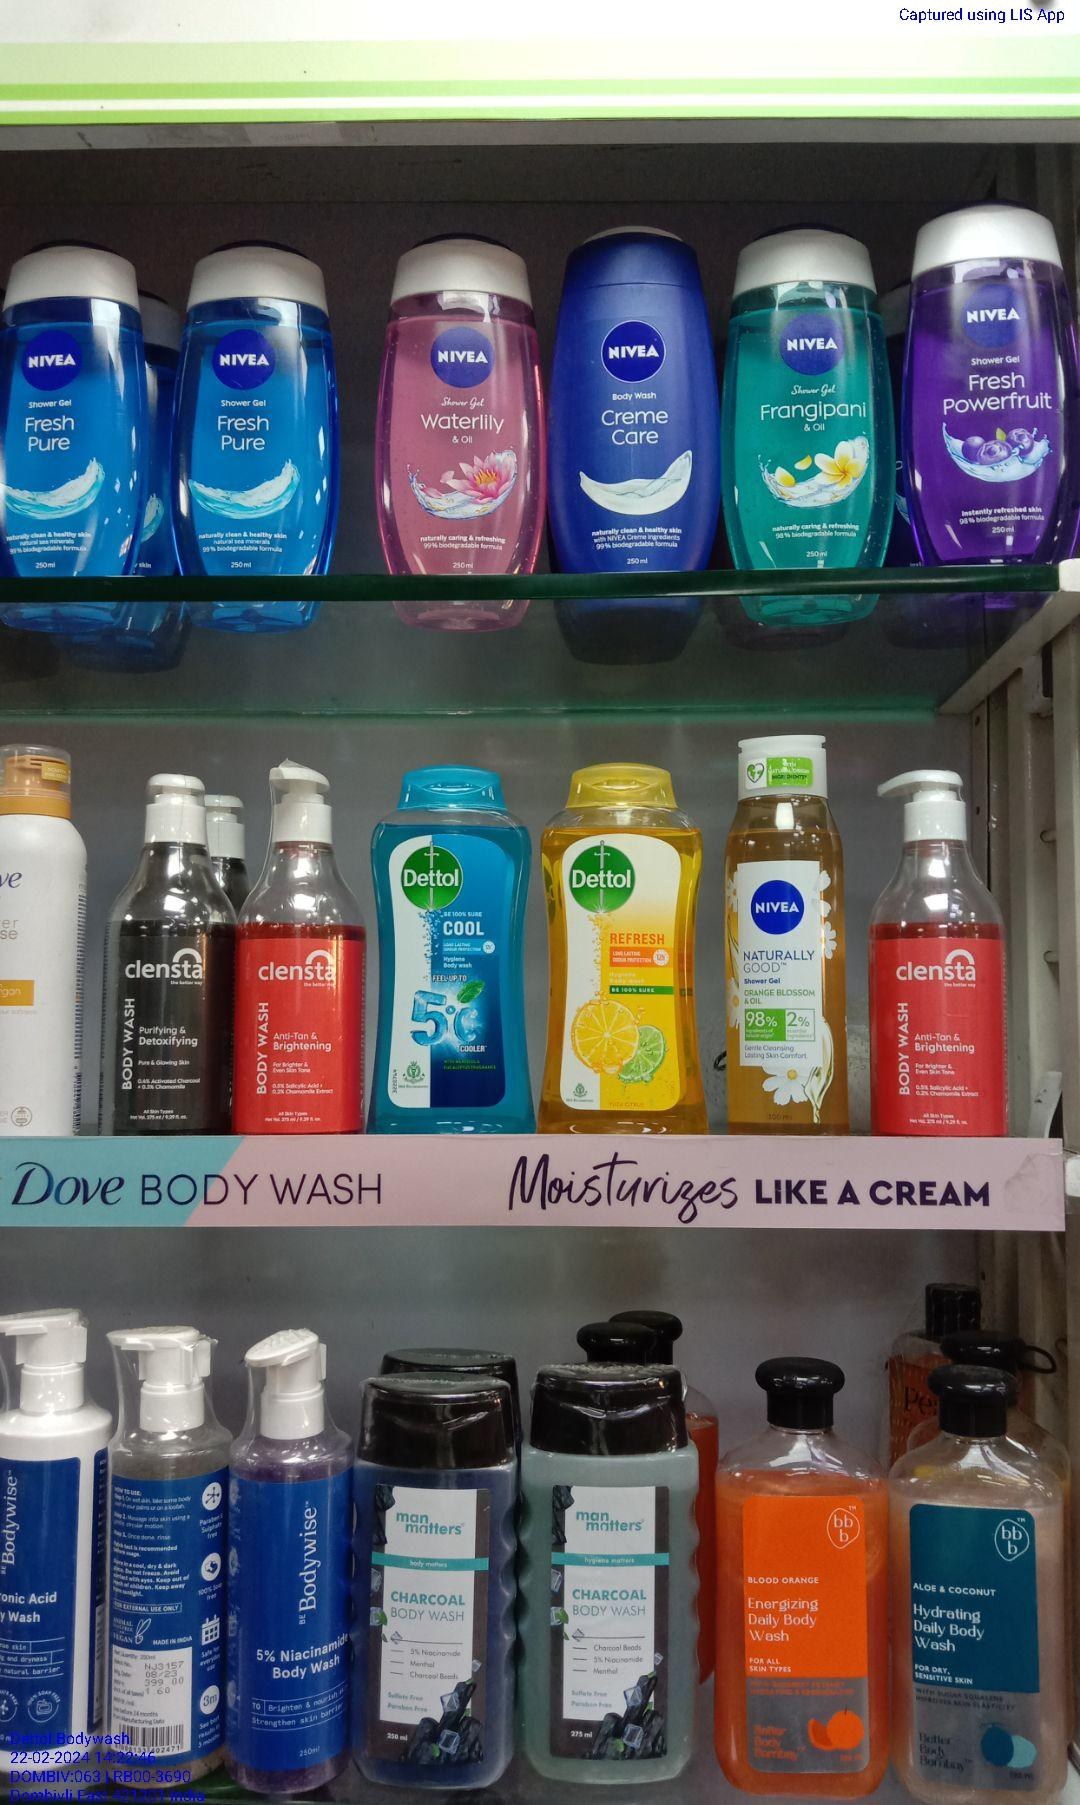Dettol_Bodywash_Cool: (373, 735, 531, 1133)
Dettol_Bodywash_Refresh: (546, 760, 712, 1134)
Nivea_Creme_Care_Body_Wash_250ML: (552, 222, 717, 588)
Nivea_Shower_Gel_Frangipani_and_Oil_250ML: (726, 226, 894, 567)
Nivea_Shower_Gel_Fresh_Powerfruit_250ML: (905, 211, 1077, 559)
Nivea_Shower_Gel_Waterlily_and_Oil_250ML: (378, 234, 541, 581)
